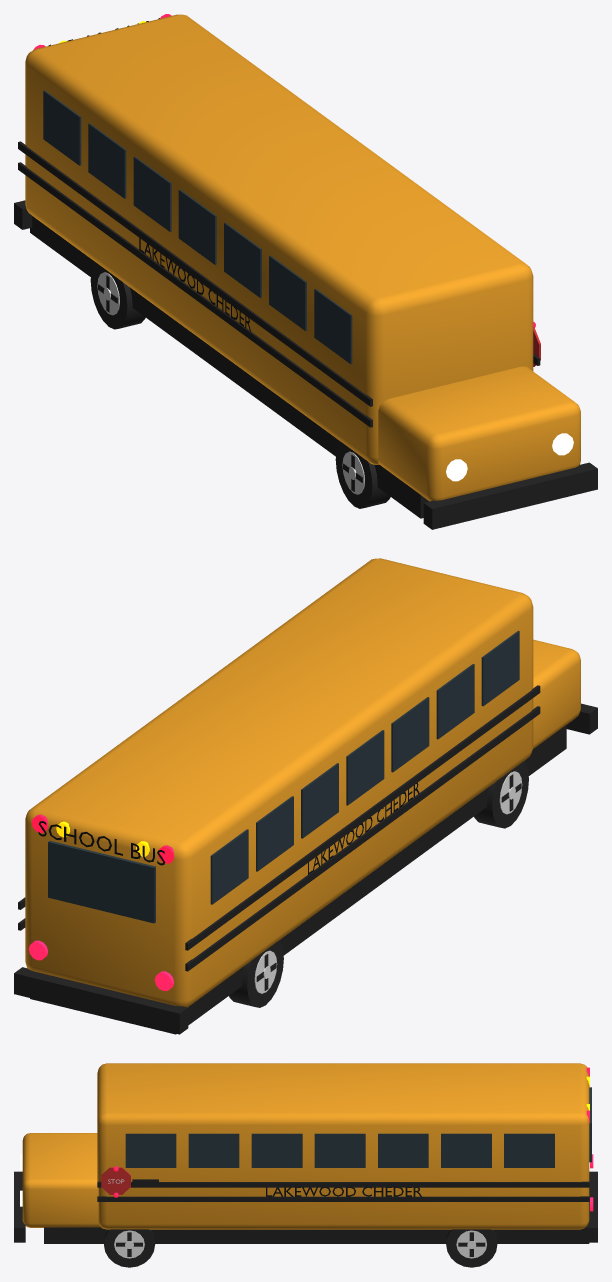
Rendered from roadevents_school_bus.glb.
The picture shows the model from 3 angles, top to bottom: view 1: azimuth 30°, elevation 25°; view 2: azimuth 150°, elevation 25°; view 3: azimuth 270°, elevation 25°; orthographic projection. The views are drawn at different scales.
Parts seen in each view (by area): view 1: SchoolBus_body, Wheel_FR.001, Wheel_RR.002; view 2: SchoolBus_body, Wheel_RR.002, Wheel_FR.001; view 3: SchoolBus_body, Wheel_FL.001, Wheel_RL.002, StopArm.
Boxes of the visible parts, x1=… form: SchoolBus_body: x1=14, y1=14, x2=597, y2=529; Wheel_FR.001: x1=335, y1=441, x2=390, y2=508; Wheel_RR.002: x1=90, y1=262, x2=145, y2=329; SchoolBus_body: x1=14, y1=558, x2=597, y2=1034; Wheel_RR.002: x1=229, y1=940, x2=283, y2=1007; Wheel_FR.001: x1=474, y1=761, x2=528, y2=828; SchoolBus_body: x1=14, y1=1063, x2=597, y2=1243; Wheel_FL.001: x1=104, y1=1229, x2=155, y2=1267; Wheel_RL.002: x1=446, y1=1229, x2=497, y2=1267; StopArm: x1=101, y1=1166, x2=158, y2=1197.
Size of the model in its own units: 2.69 by 3.15 by 10.92.
